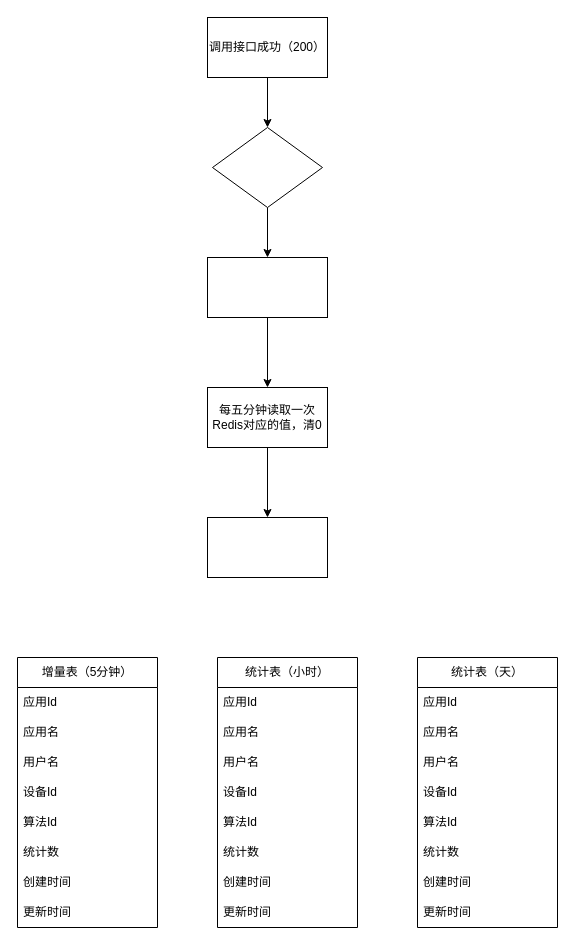
This 575x945 diagram has some shape labels left out. Each missing label, with the centre of its shape:
入库: point (267, 547)
发送kafka消息: point (267, 167)
接受kafka消息，将对应Redis相关的字段+1: point (267, 287)
